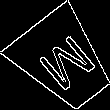M_SE: (29, 28, 98, 96)
